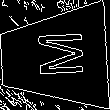M_W: (25, 33, 83, 82)
